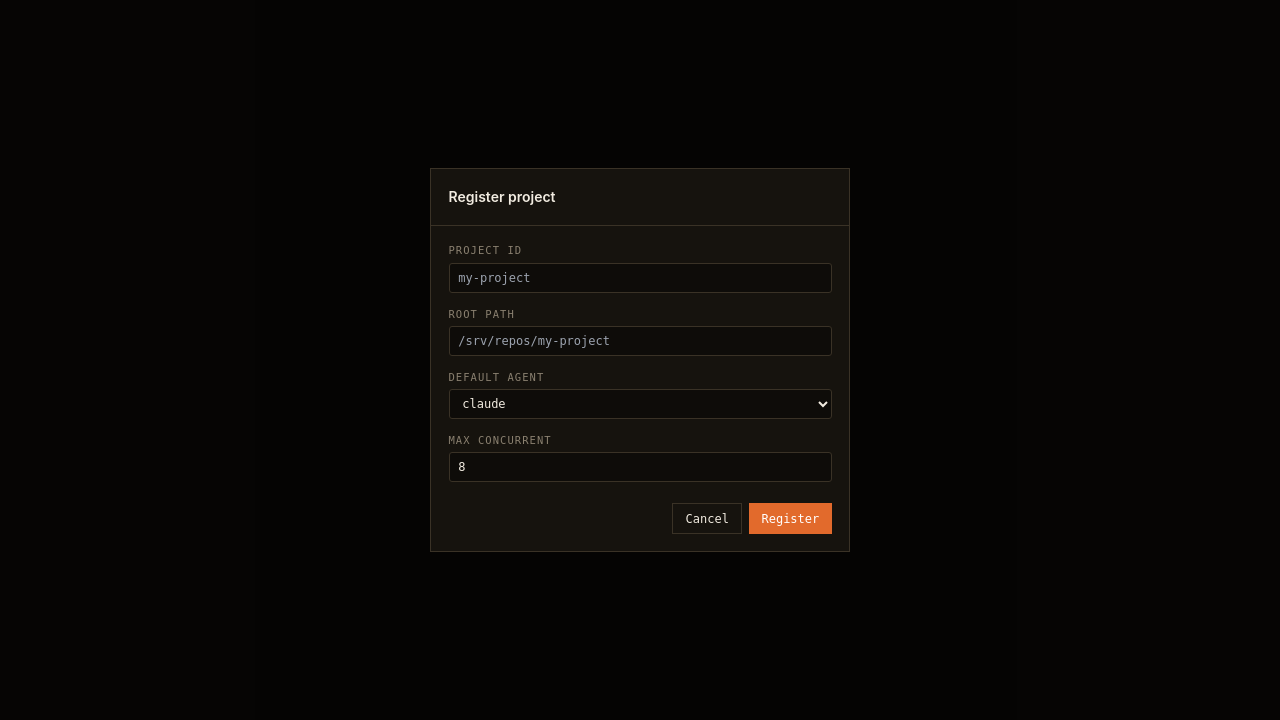
Test case: <RegisterProjectModal> › shows inline validation errors for empty required fields
Click the button "Register" at (790, 519), box [749,503,832,534]
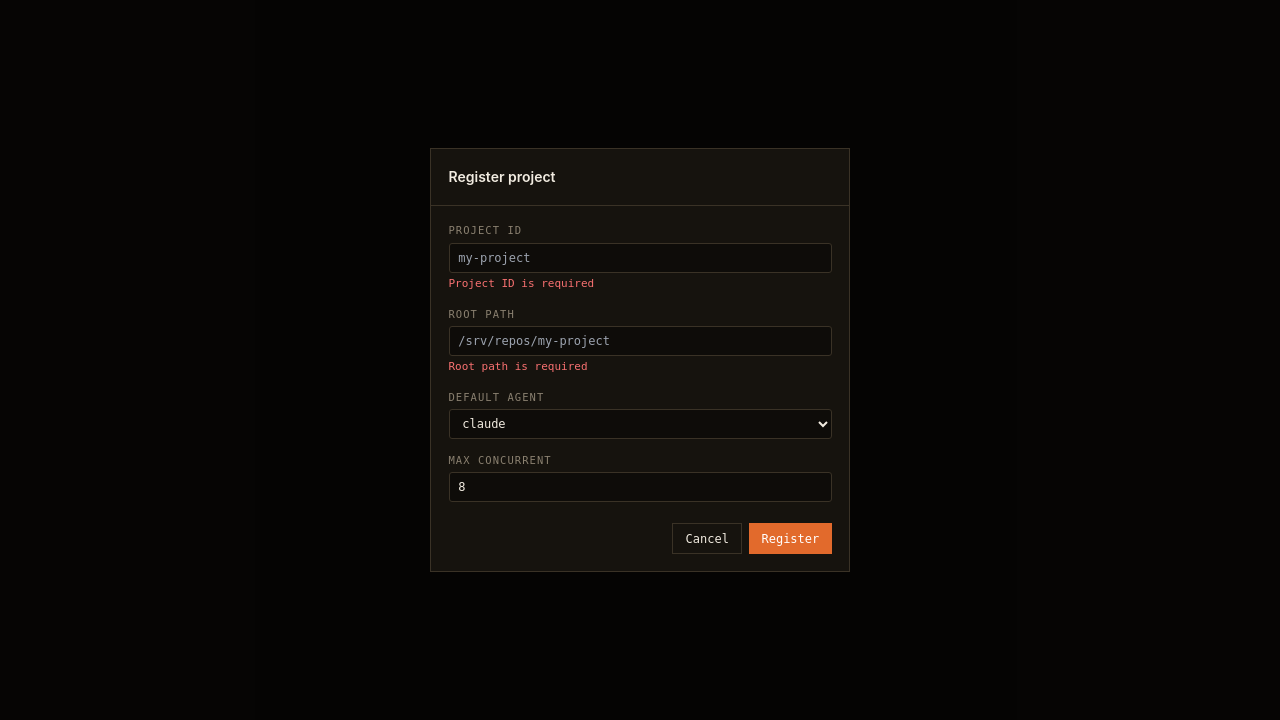
Check: the text "Project ID is required" is shown, box [448,277,594,290]
Check: the text "Root path is required" is shown, box [448,360,588,373]
